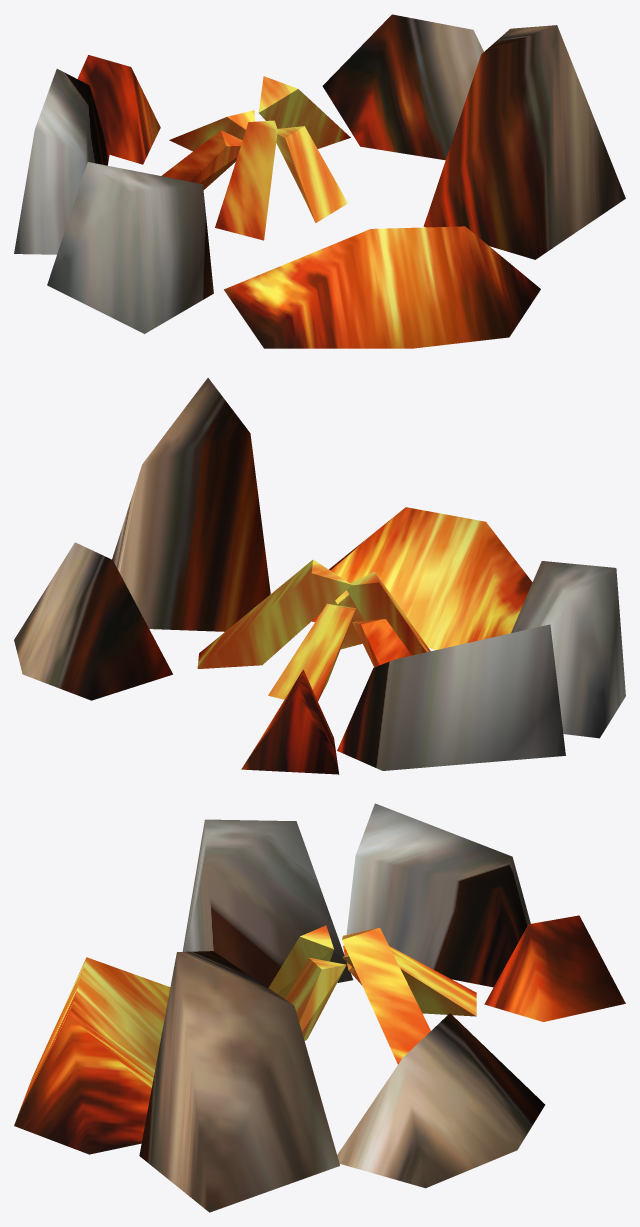
Rendered from wood.FBX.
3 views of the same model, one above another, from view 1: azimuth 30°, elevation 25°; view 2: azimuth 150°, elevation 25°; view 3: azimuth 270°, elevation 25° (orthographic). The views are drawn at different scales.
Visible parts, largest first — view 1: world_azeroth_elwynn_passivedoodads_campfire_elwynncampfire_; view 2: world_azeroth_elwynn_passivedoodads_campfire_elwynncampfire_; view 3: world_azeroth_elwynn_passivedoodads_campfire_elwynncampfire_.
Part boxes in pixels (bbox=[...]): world_azeroth_elwynn_passivedoodads_campfire_elwynncampfire_: bbox=[14, 14, 625, 348]; world_azeroth_elwynn_passivedoodads_campfire_elwynncampfire_: bbox=[14, 378, 625, 774]; world_azeroth_elwynn_passivedoodads_campfire_elwynncampfire_: bbox=[14, 803, 625, 1212].
Bounding box in the file's own units: 2.14 × 0.8666 × 2.02.
